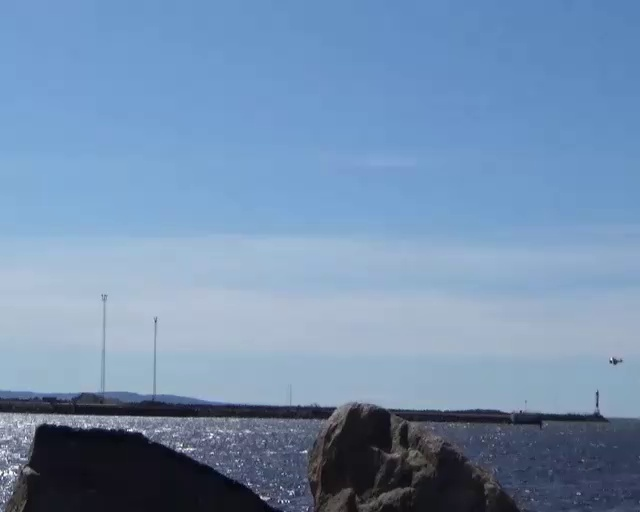HELICOPTER: (608, 355, 623, 365)
